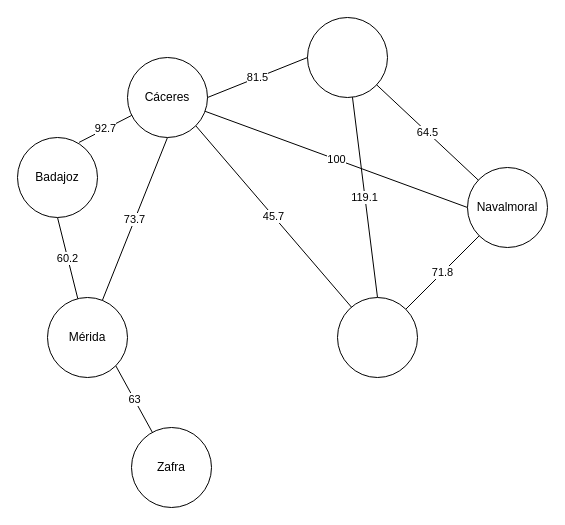
The diagram is 565 pixels wide and 525 high, and some of its shapes have lost their labels. The shapes that lost their labels are listed below. From the top down, each one's centre as x and y in pixels, then its label:
At (347,57): "Plasencia".
At (377,337): "Trujillo".
